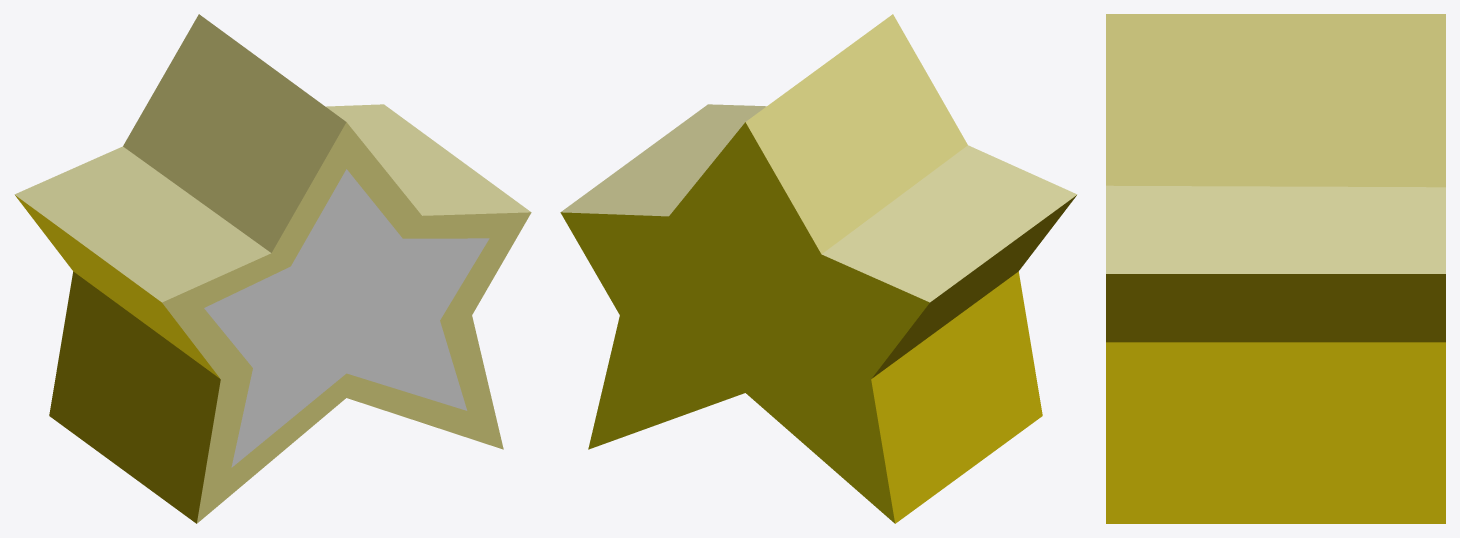
File: HolidayStarMeterCrateCo.glb
The picture shows the model from 3 angles, left to right: view 1: azimuth 30°, elevation 25°; view 2: azimuth 150°, elevation 25°; view 3: azimuth 270°, elevation 25°; orthographic projection. The views are drawn at different scales.
Parts seen in each view (by area): view 1: HolidayStarMeterCrateCo; view 2: HolidayStarMeterCrateCo; view 3: HolidayStarMeterCrateCo.
Boxes of the visible parts, x1,y1,x2,y2 form: HolidayStarMeterCrateCo: (14,14,531,523); HolidayStarMeterCrateCo: (560,14,1077,523); HolidayStarMeterCrateCo: (1106,14,1445,523).
Bounding box in the file's own units: 0.887 × 0.8394 × 0.6135.
